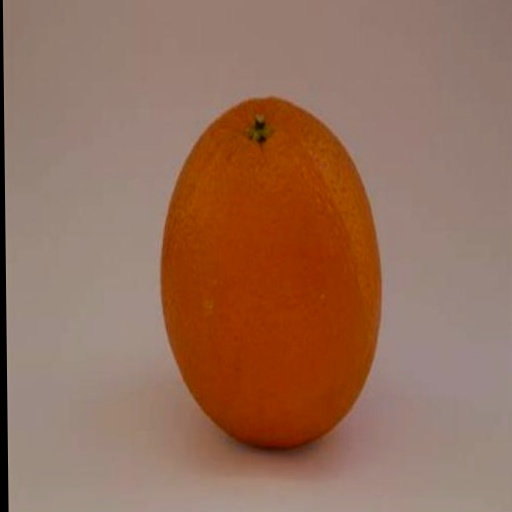fruit: (161, 98, 380, 447)
